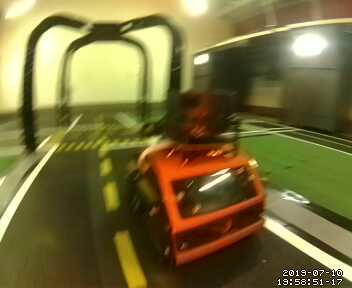pheeno: (129, 90, 268, 272)
